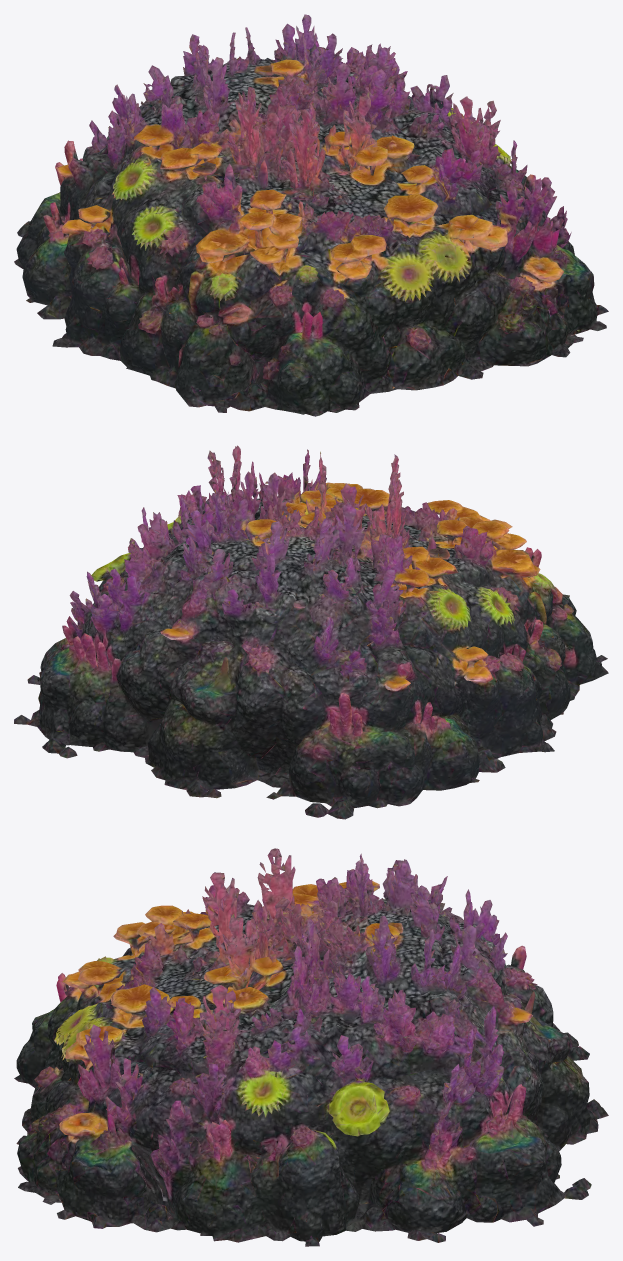
Rendered from neon_coral_summit.glb.
3 renders of one model, top to bottom at view 1: azimuth 30°, elevation 25°; view 2: azimuth 150°, elevation 25°; view 3: azimuth 270°, elevation 25°, orthographic. The views are drawn at different scales.
Visible parts, largest first — view 1: Mesh1.0; view 2: Mesh1.0; view 3: Mesh1.0.
Boxes of the visible parts, box(x1,y1,x2,y2) form: Mesh1.0: box(14, 14, 608, 416); Mesh1.0: box(14, 445, 608, 819); Mesh1.0: box(14, 848, 608, 1246).
Size of the model in its own units: 1.89 by 0.8432 by 1.89.
1 material, 1 textured.
